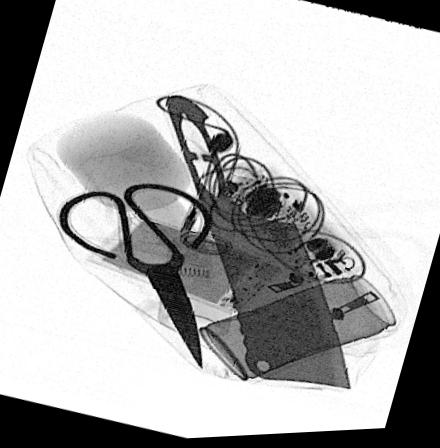Knife: (164, 96, 349, 394)
Powerbank: (84, 212, 285, 318)
Scissors: (56, 182, 215, 373)
Sprayer: (157, 201, 236, 338)
